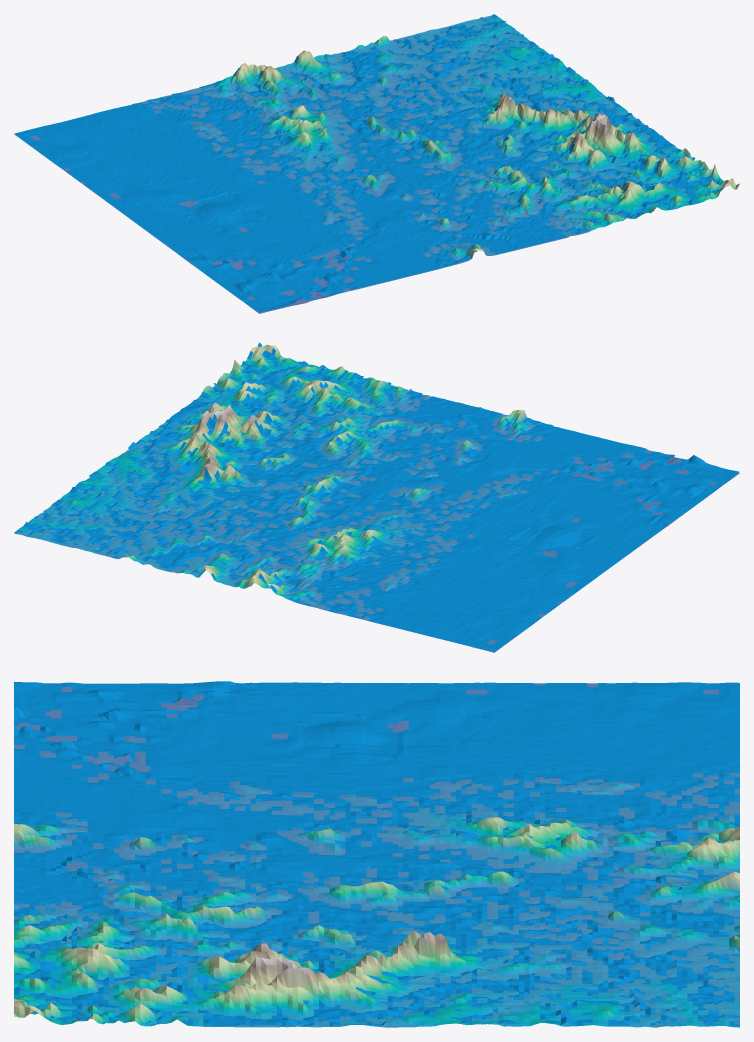
Rendered from alignment_validation.glb.
The picture shows the model from 3 angles, top to bottom: view 1: azimuth 30°, elevation 25°; view 2: azimuth 150°, elevation 25°; view 3: azimuth 270°, elevation 25°; orthographic projection. The views are drawn at different scales.
Visible parts, largest first — view 1: world; view 2: world; view 3: world.
Boxes of the visible parts, x1,y1,x2,y2 form: world: (14, 14, 739, 313); world: (14, 342, 739, 652); world: (14, 681, 739, 1027).
Bounding box in the file's own units: 83895 × 4170 × 74215.
